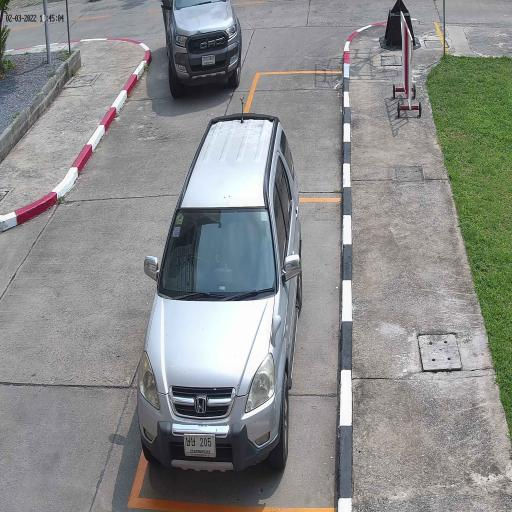car: (137, 115, 302, 477), (160, 0, 242, 99)
